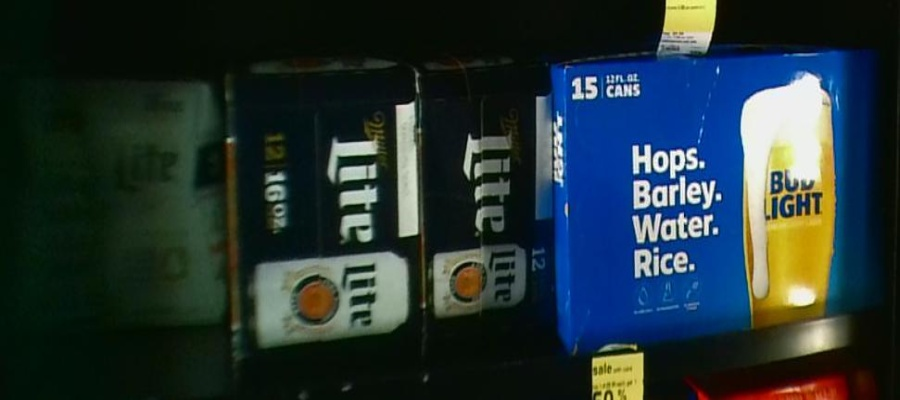bottle: (561, 49, 886, 327), (221, 67, 423, 367), (1, 89, 225, 336), (423, 57, 556, 327)
